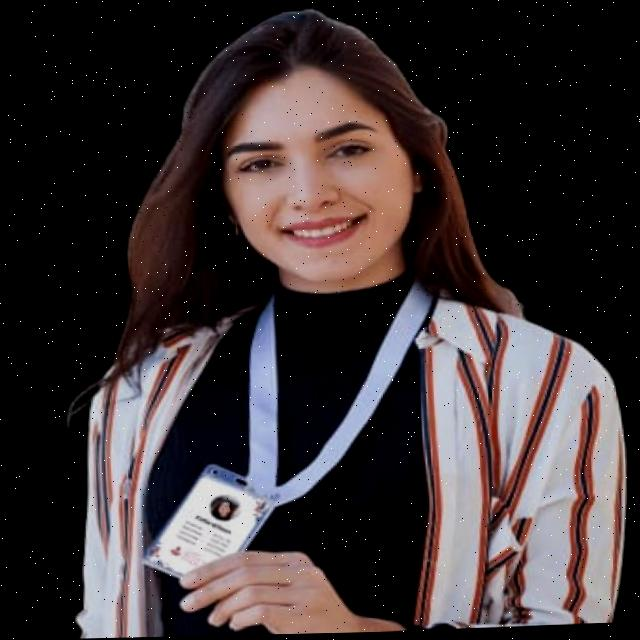id_card: (126, 281, 450, 609)
